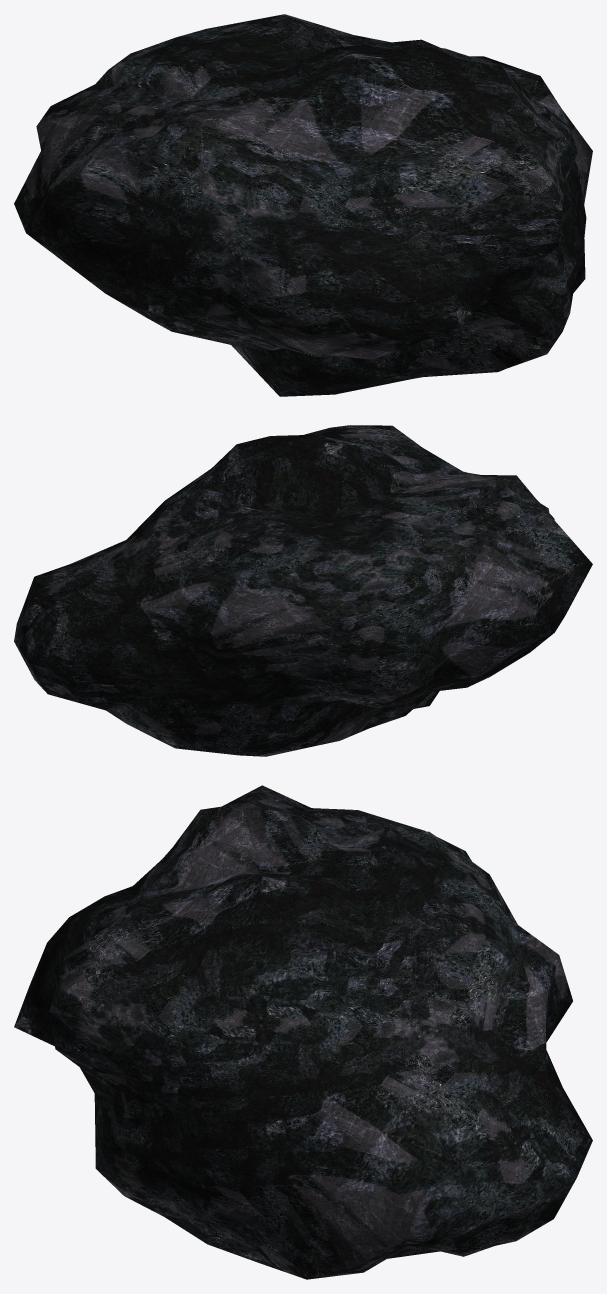
The model's file is asteroid_obsidian_medium_s02_l0.fbx.
The picture shows the model from 3 angles, top to bottom: view 1: azimuth 30°, elevation 25°; view 2: azimuth 150°, elevation 25°; view 3: azimuth 270°, elevation 25°; orthographic projection. The views are drawn at different scales.
Parts seen in each view (by area): view 1: mesh_node; view 2: mesh_node; view 3: mesh_node.
Part boxes in pixels (left/top/right/bottom): mesh_node: left=14, top=14, right=592, bottom=396; mesh_node: left=14, top=425, right=592, bottom=756; mesh_node: left=14, top=785, right=592, bottom=1279.
Bounding box in the file's own units: 85.19 × 43.12 × 71.47.
